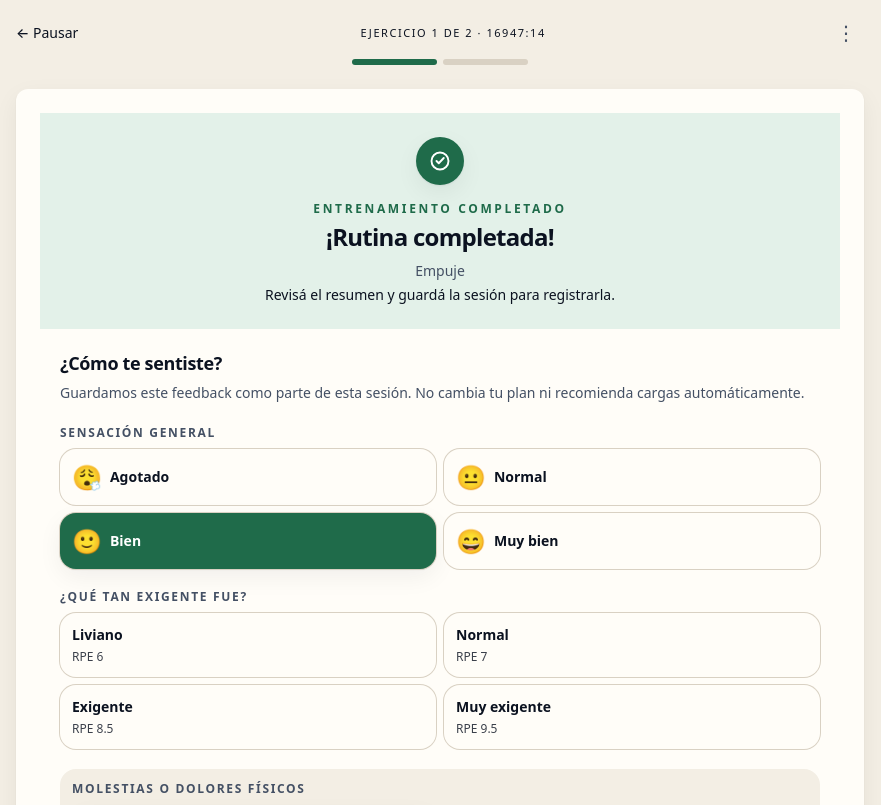
Scenario: GuidedSessionPlayerPage › shows at most one animated celebration for multiple verified PR cohorts
This screenshot has width=881, height=805.
Click the button with test id "close-effort-exigente" at (102, 706), box x1=60 y1=685 x2=436 y2=749
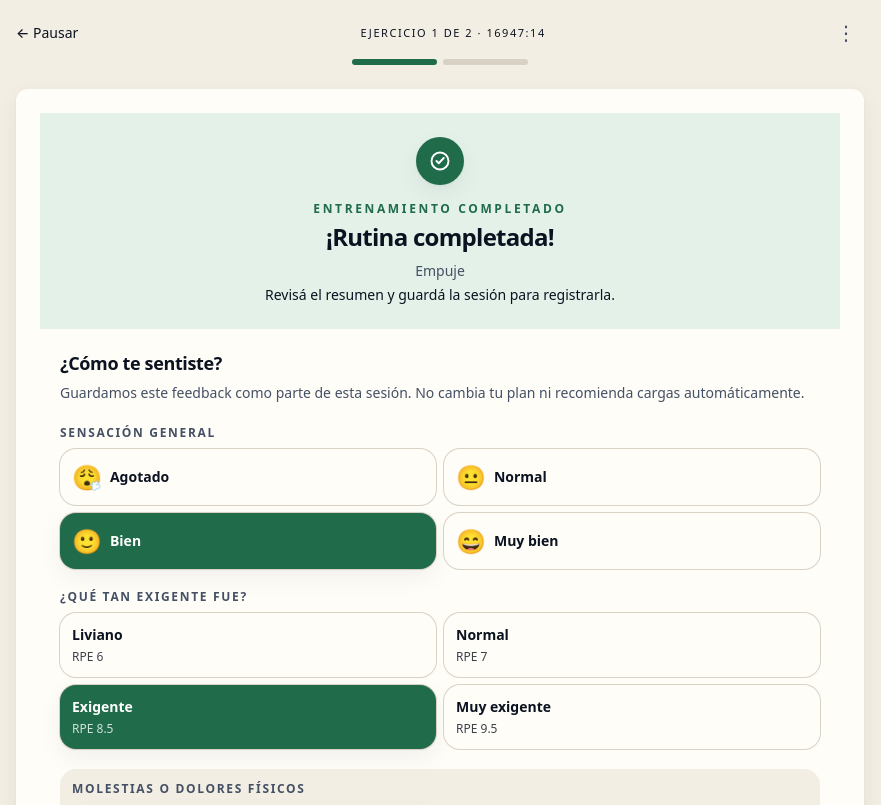
Click the button with test id "close-mood-good" at (126, 540), box x1=60 y1=513 x2=436 y2=569
(page scrolled)
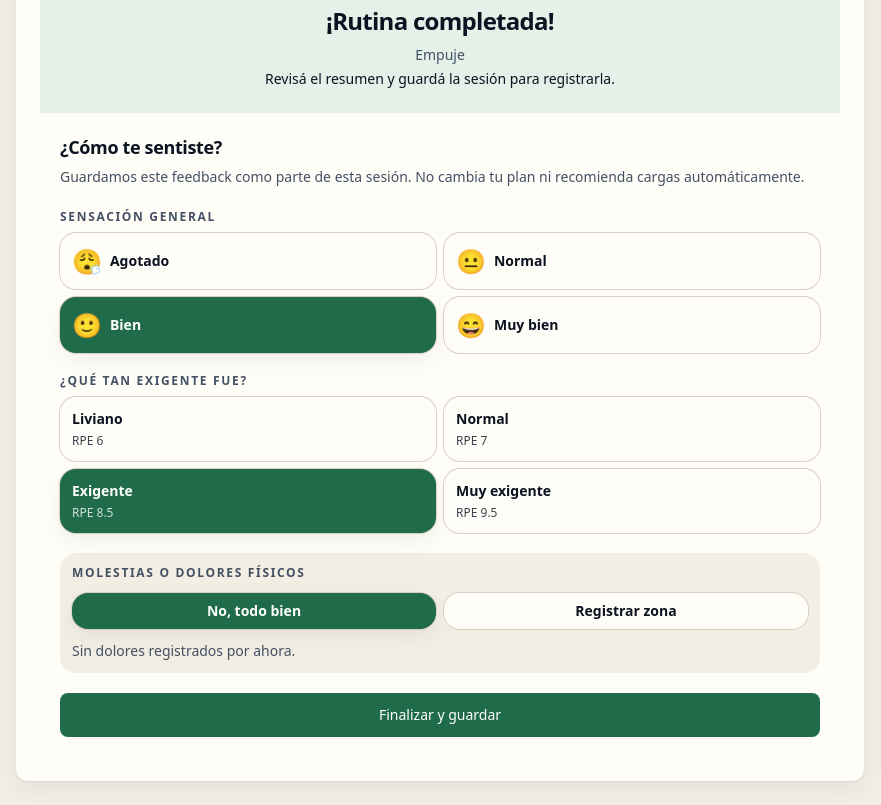
Click the button with test id "close-save" at (440, 715), box x1=60 y1=693 x2=820 y2=737
(page scrolled)
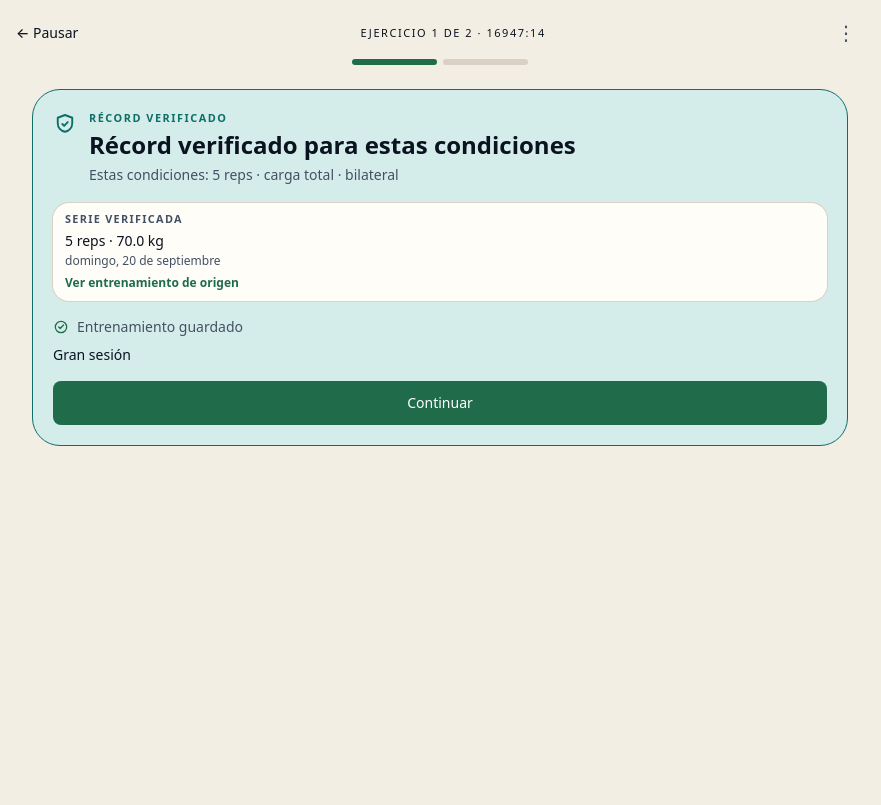
Now the number of elements with test id "verified-pr-celebration" is 1, box x1=32 y1=89 x2=848 y2=446
Now the element with test id "verified-pr-source" shows "5 reps", box x1=65 y1=231 x2=105 y2=250
